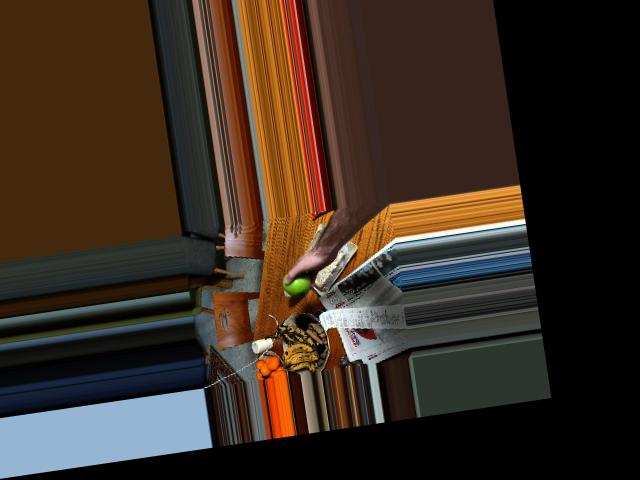apple: (279, 265, 315, 298)
